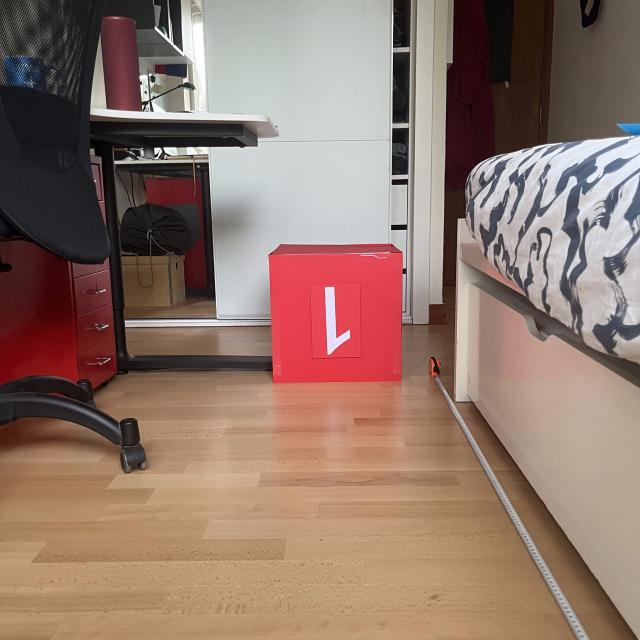box: (264, 239, 406, 385)
